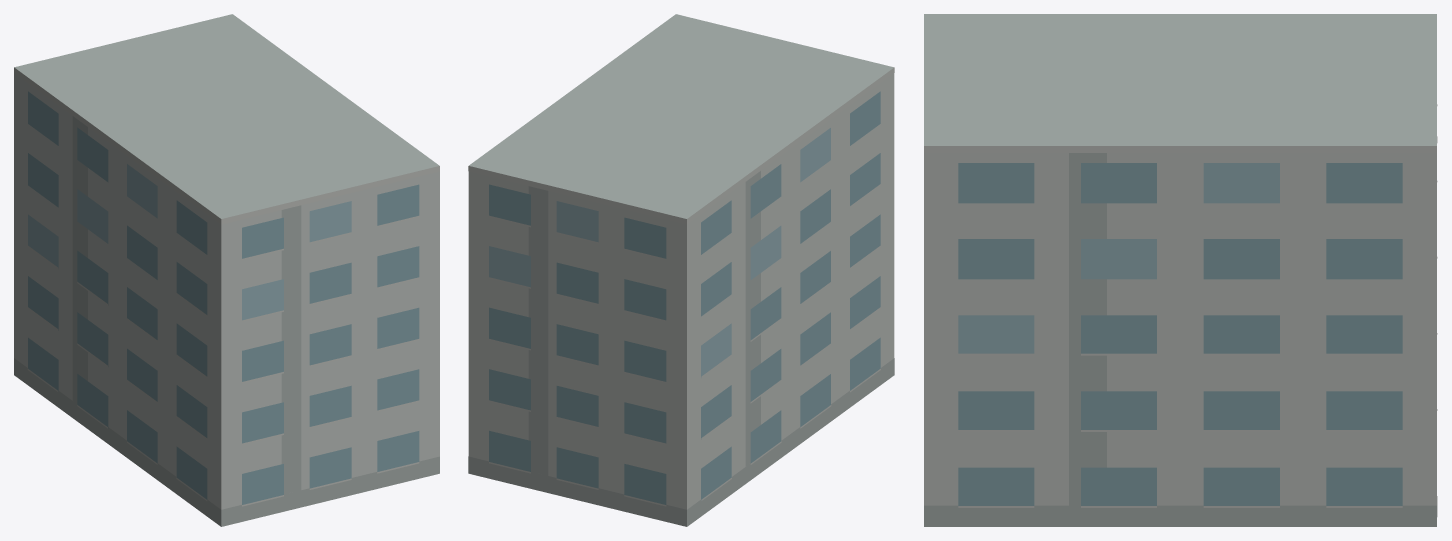
Rendered from survey-upis-32610846.glb.
3 views of the same model, side by side, from view 1: azimuth 30°, elevation 25°; view 2: azimuth 150°, elevation 25°; view 3: azimuth 270°, elevation 25° (orthographic). The views are drawn at different scales.
Parts seen in each view (by area): view 1: survey-upis-32610846.tmp; view 2: survey-upis-32610846.tmp; view 3: survey-upis-32610846.tmp.
Boxes of the visible parts, x1,y1,x2,y2 form: survey-upis-32610846.tmp: (14, 14, 439, 526); survey-upis-32610846.tmp: (468, 14, 894, 526); survey-upis-32610846.tmp: (924, 14, 1437, 526).
Size of the model in its own units: 9.91 by 13.3 by 16.27.
